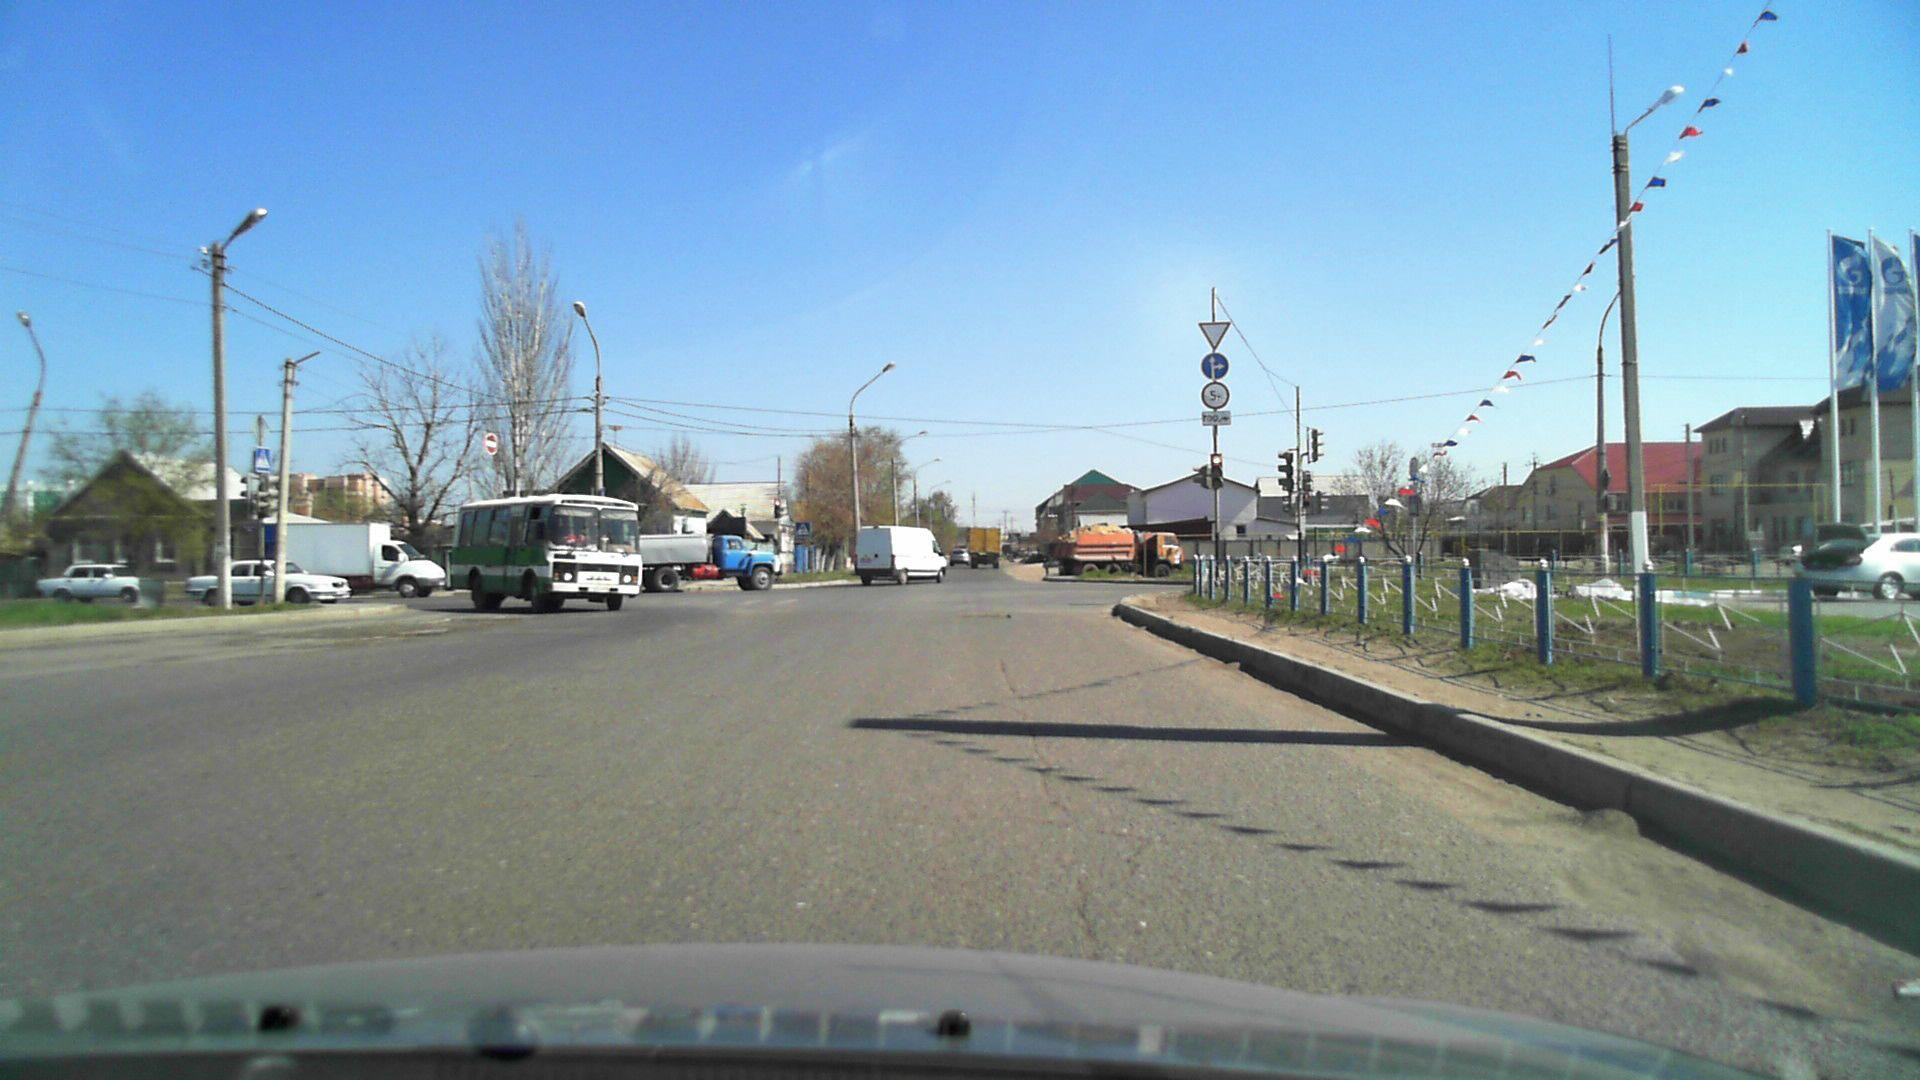2_4: (1196, 320, 1232, 349)
3_11: (1201, 378, 1228, 409)
4_1_4: (1200, 351, 1230, 380)
5_19_2: (796, 522, 810, 535)
8_1_4: (1200, 410, 1233, 427)
